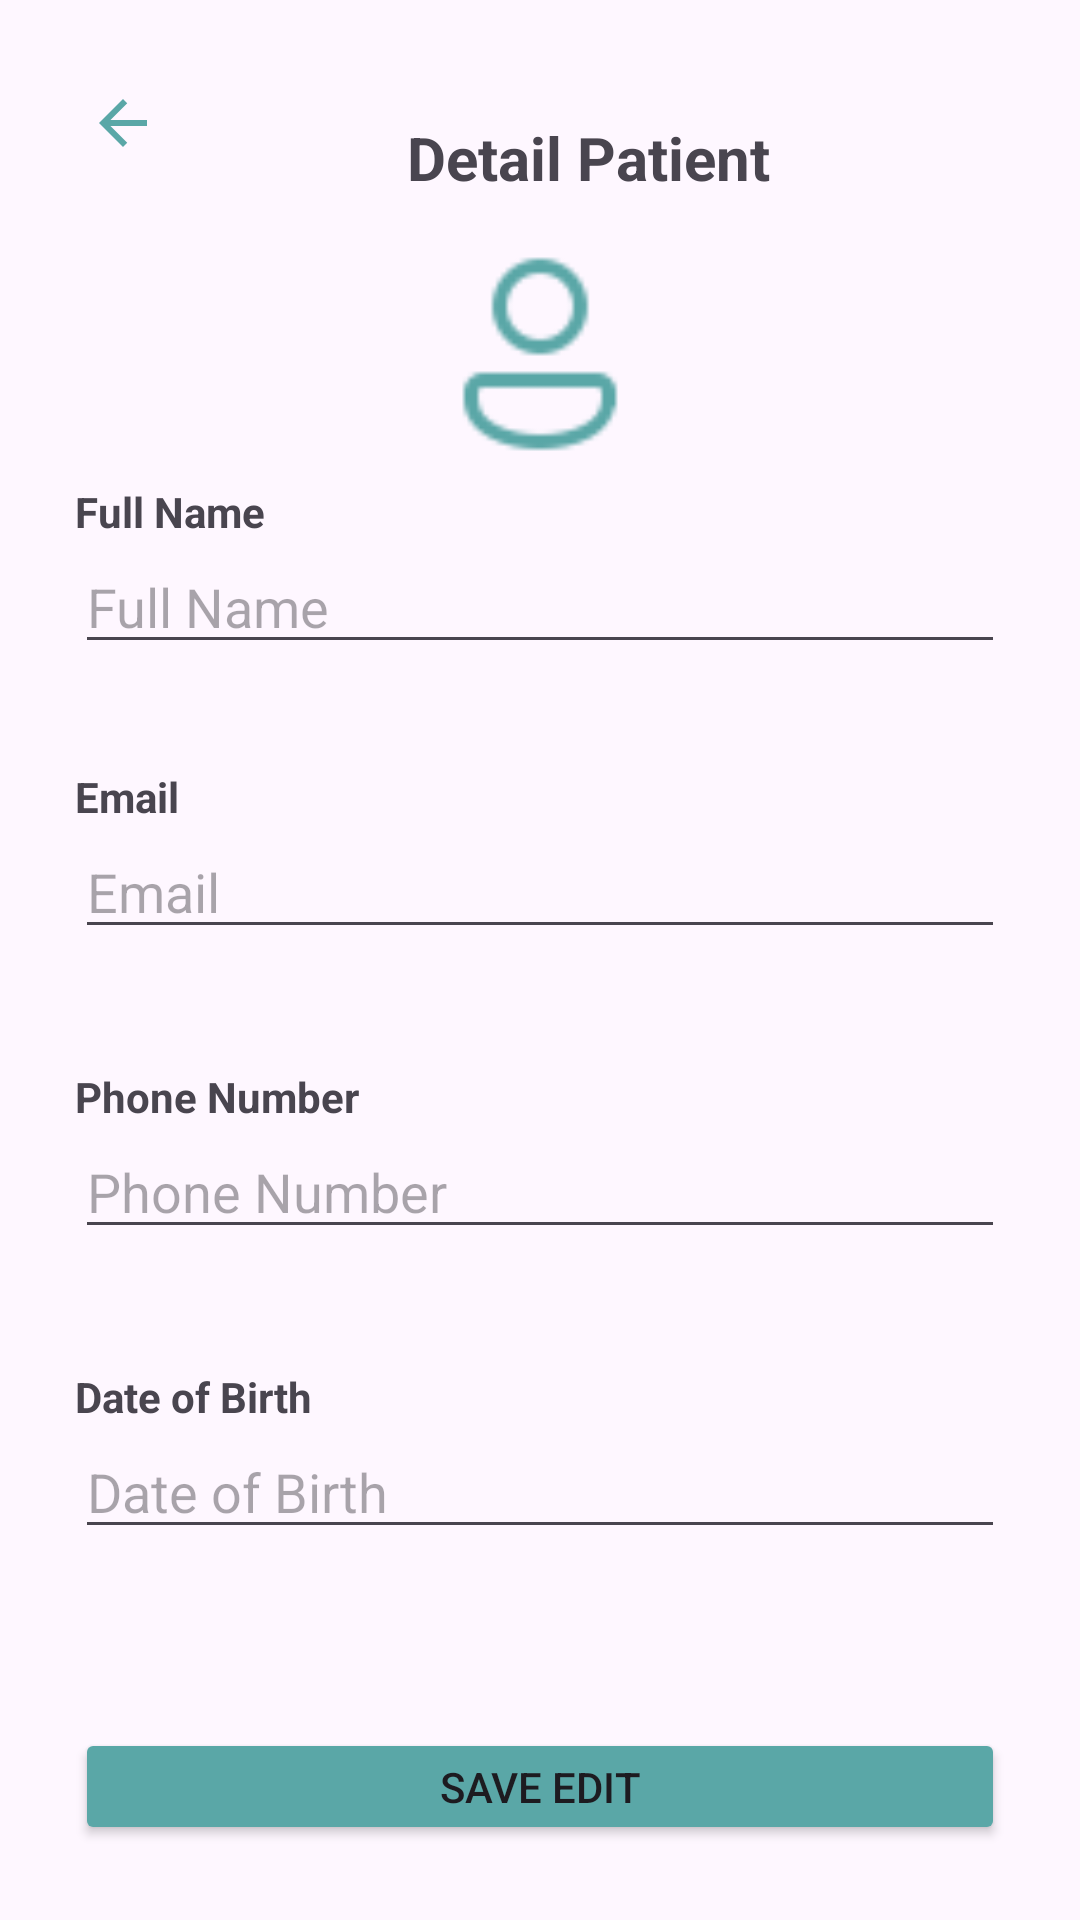

Where to tap for icons on this 1080px x 1920px app screen, as (x,y):
back: (123,123)
profile: (540,354)
